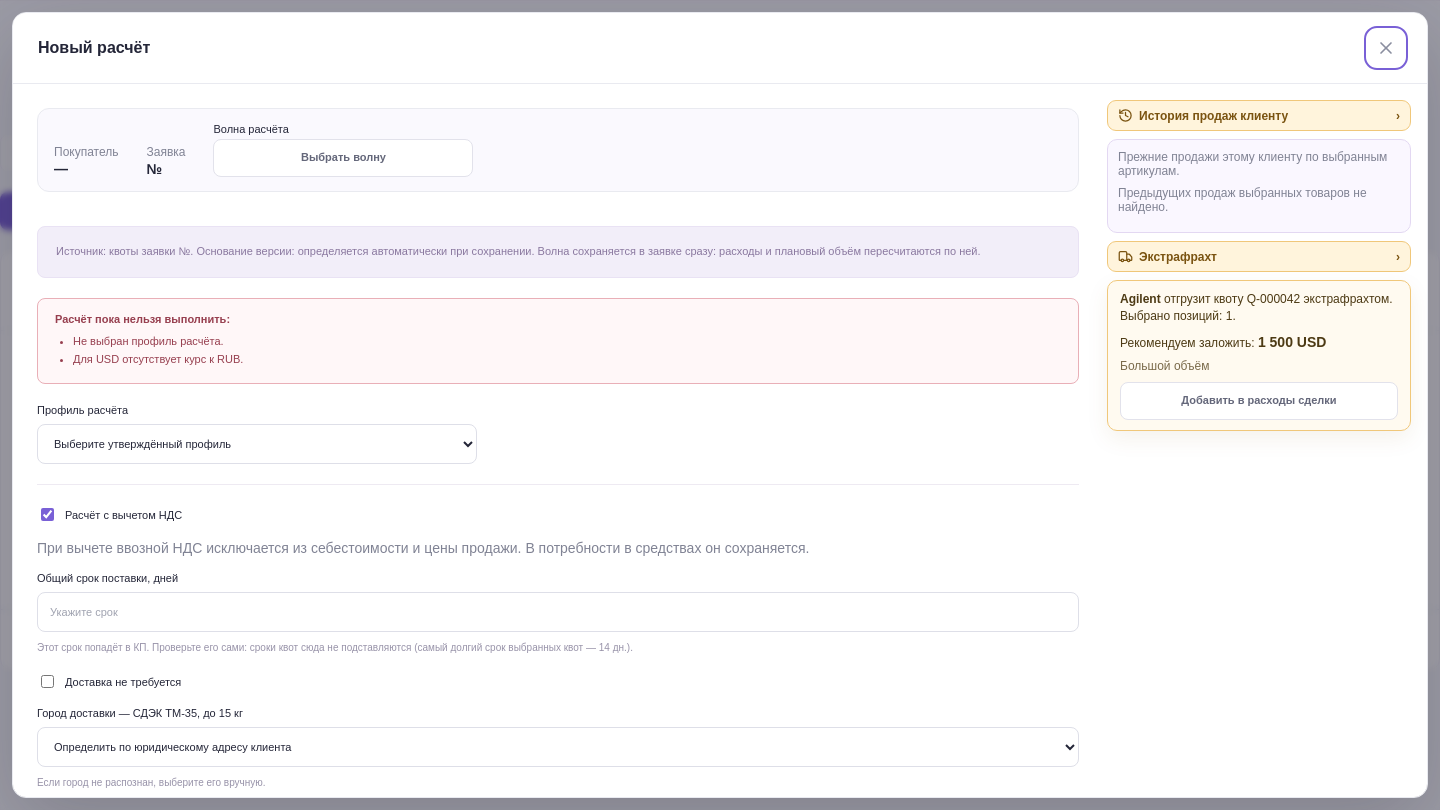
Test case: changes the columns fee of one calculation only with a comment
Select "Профиль · —" in the dropdown labelled "Профиль расчёта" at (257, 444), box [37,424,477,464]
(page scrolled)
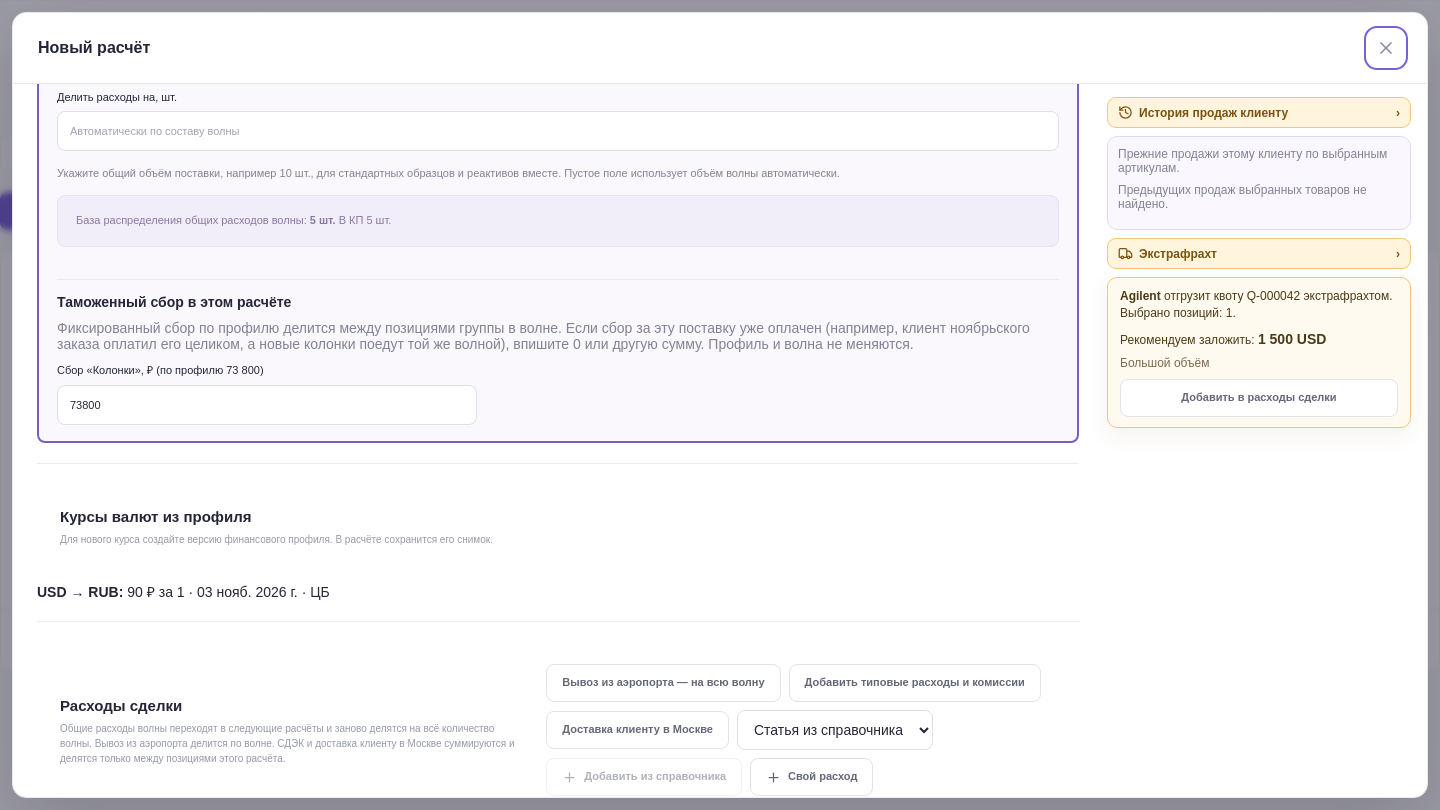
Check: the field named "Таможенный сбор: Колонки" holds "73800"
Replace the text in the field named "Таможенный сбор: Колонки" with "0" at (267, 405), box [57,385,477,425]
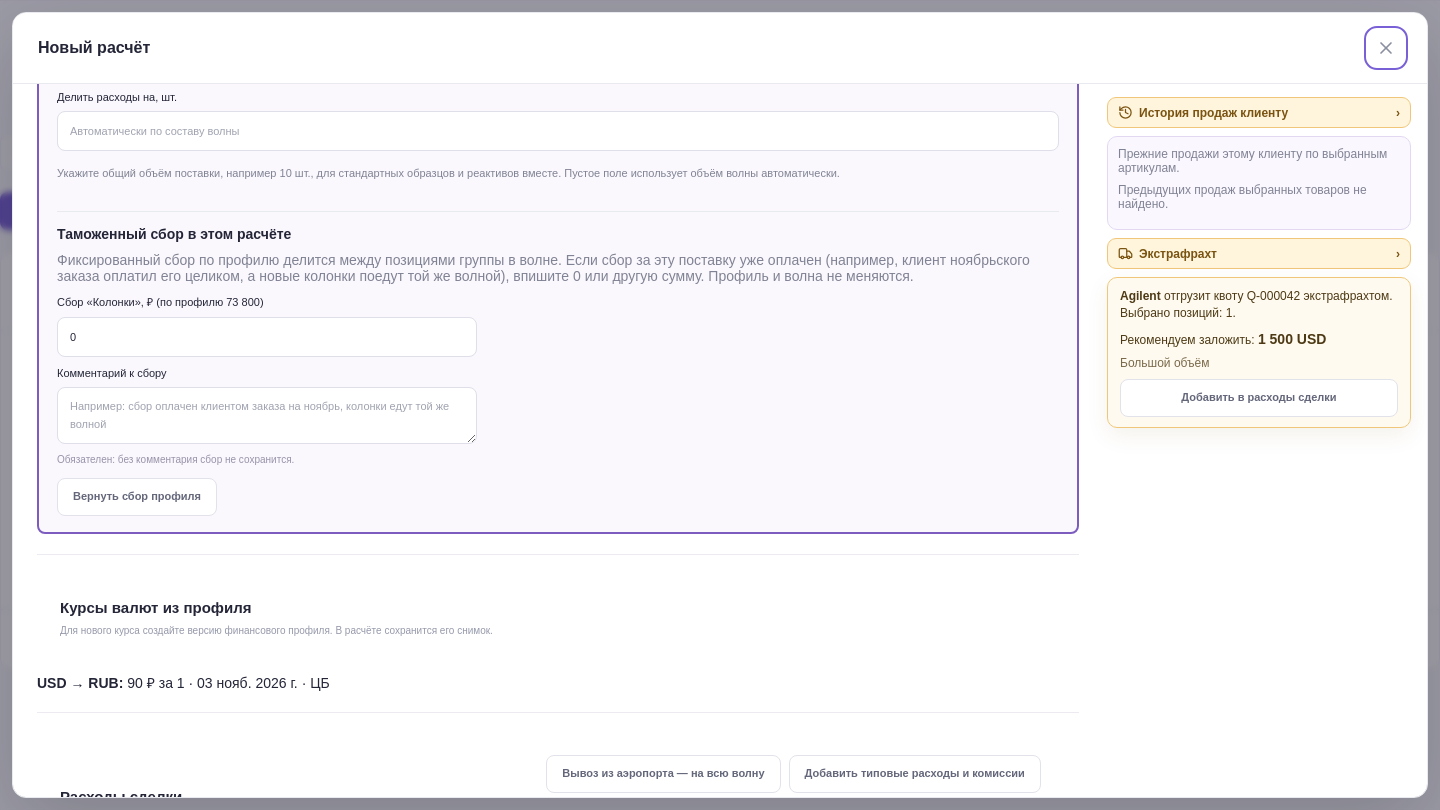
Replace the text in the text box labelled "Комментарий к сбору" with "Сбор оплачен клиентом ноябрьского заказа" at (267, 416), box [57,387,477,444]
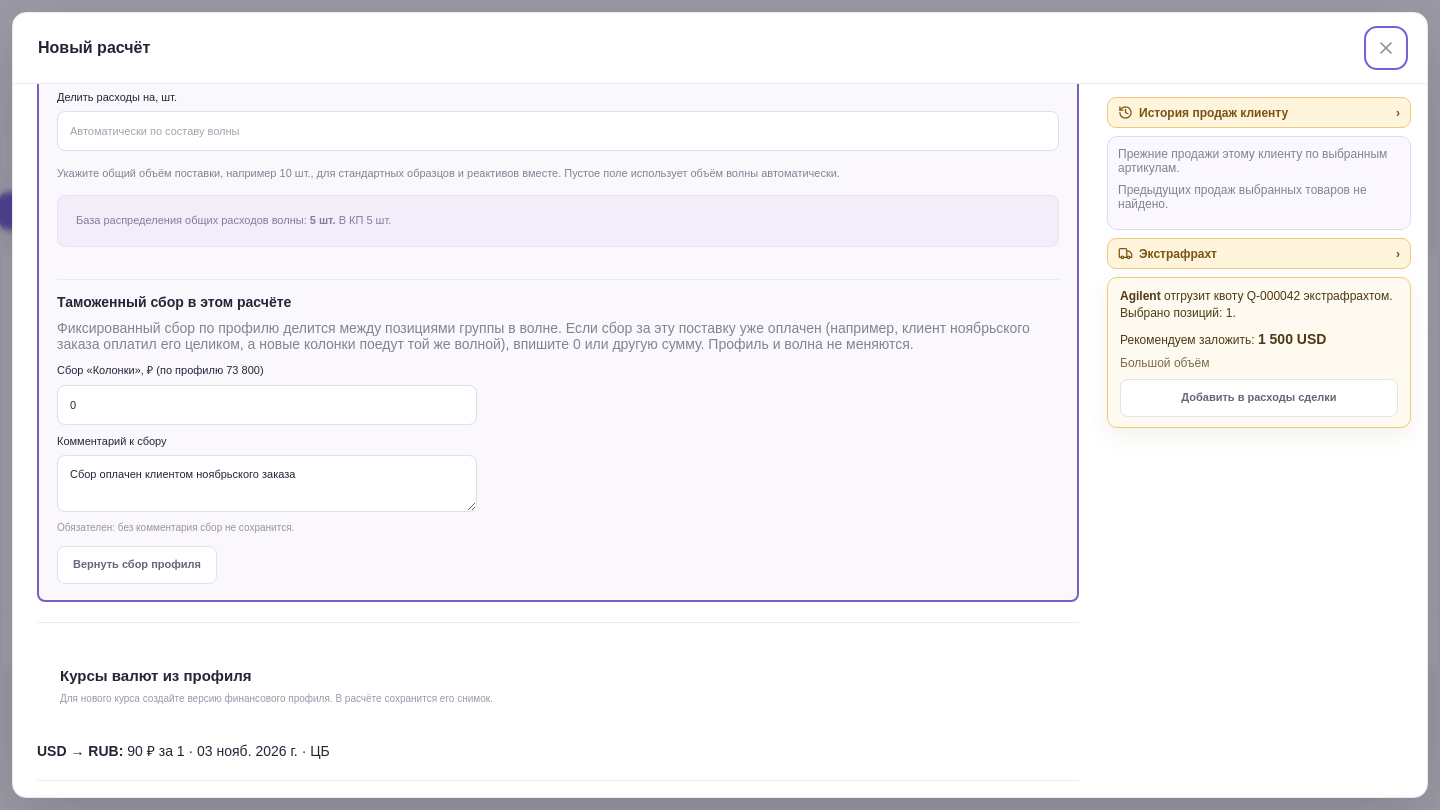
Click the button "Вернуть сбор профиля".
click(137, 565)  # box [57,546,217,584]
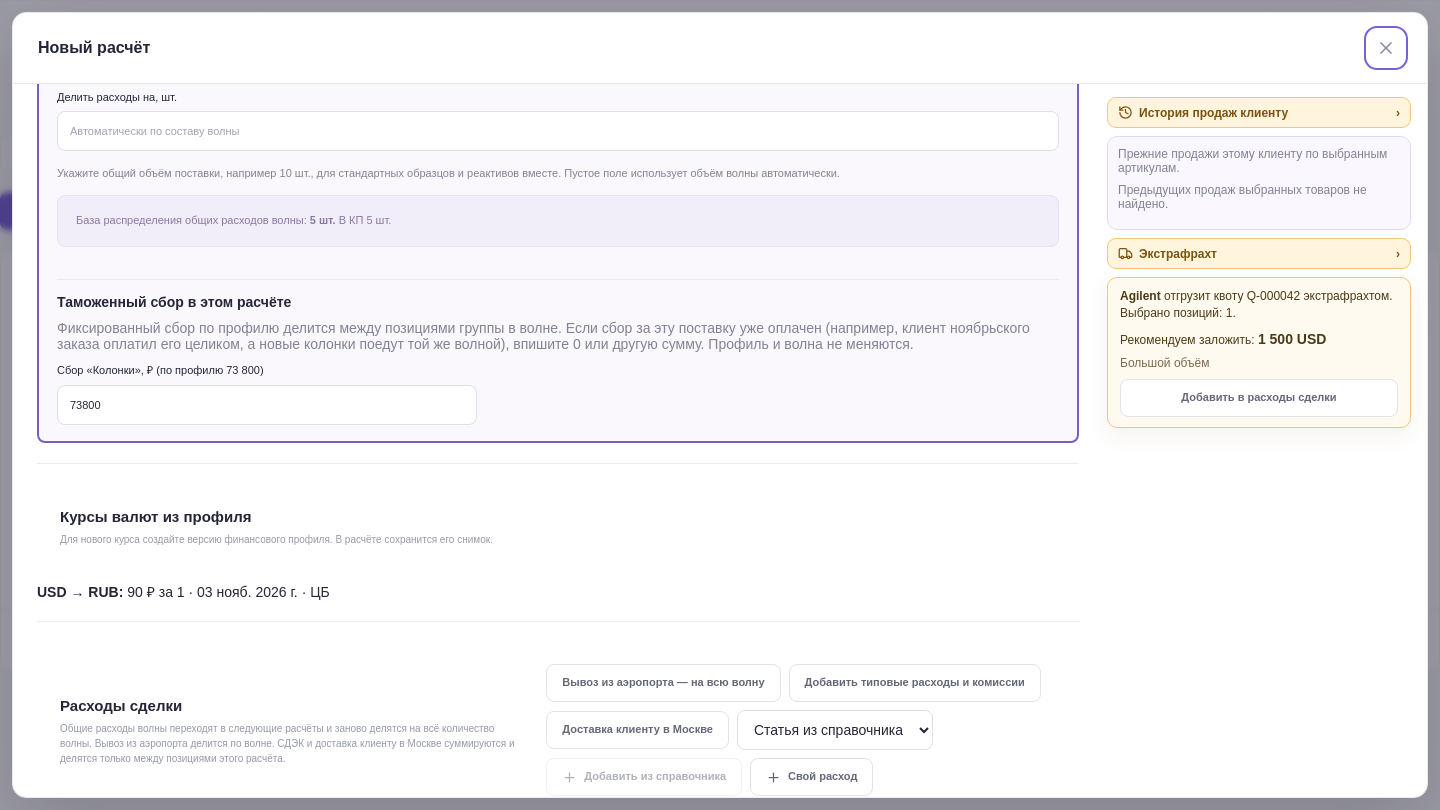
Check: the field named "Таможенный сбор: Колонки" holds "73800", box [57,385,477,425]
